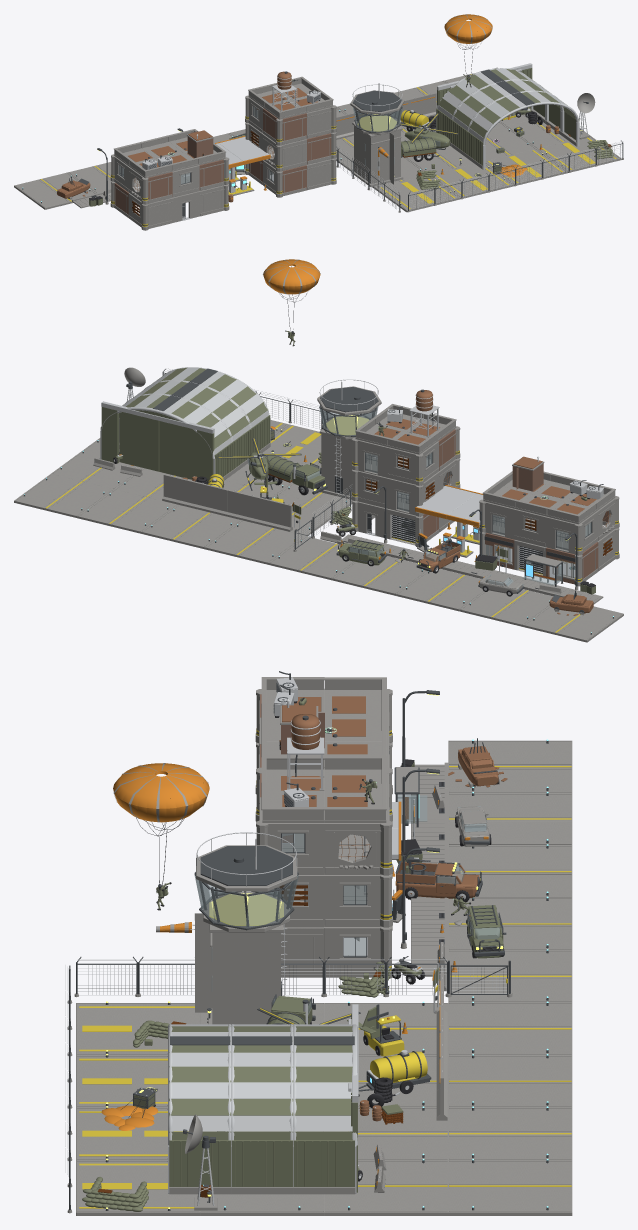
3 renders of one model, top to bottom at view 1: azimuth 30°, elevation 25°; view 2: azimuth 150°, elevation 25°; view 3: azimuth 270°, elevation 25°, orthographic. The views are drawn at different scales.
Visible parts, largest first — view 1: 134-control-tower-base/0, 018-runway-slab/0, 138-hangar-arch-bay/0, 138-hangar-arch-bay/2, 017-runway-slab/0, 137-hangar-arch-bay/2, 000-taxiway-slab/0, 019-runway-slab/0, 020-runway-slab/0, 136-hangar-arch-bay/2, 135-control-tower-cab/2, 225-operator-parachute-drop/3 (+50 smaller); view 2: 007-taxiway-slab/0, 006-taxiway-slab/0, 008-taxiway-slab/0, 005-taxiway-slab/0, 002-taxiway-slab/0, 001-taxiway-slab/0, 000-taxiway-slab/0, 003-taxiway-slab/0, 004-taxiway-slab/0, 139-hangar-end-wall-door/leaf-e/olive, 139-hangar-end-wall-door/leaf-w/olive, 139-hangar-end-wall-door/0 (+46 smaller); view 3: 134-control-tower-base/0, 008-taxiway-slab/0, 006-taxiway-slab/0, 007-taxiway-slab/0, 005-taxiway-slab/0, 137-hangar-arch-bay/2, 136-hangar-arch-bay/2, 004-taxiway-slab/0, 138-hangar-arch-bay/2, 002-taxiway-slab/0, 001-taxiway-slab/0, 012-taxiway-slab/0 (+53 smaller).
Part boxes in pixels (box(x1,y1,x2,y2)): 134-control-tower-base/0: box(351, 122, 403, 186); 018-runway-slab/0: box(434, 164, 513, 198); 138-hangar-arch-bay/0: box(468, 91, 579, 169); 138-hangar-arch-bay/2: box(467, 91, 579, 165); 017-runway-slab/0: box(375, 178, 460, 212); 137-hangar-arch-bay/2: box(451, 80, 560, 154); 000-taxiway-slab/0: box(14, 172, 95, 209); 019-runway-slab/0: box(485, 149, 567, 186); 020-runway-slab/0: box(537, 136, 621, 172); 136-hangar-arch-bay/2: box(436, 69, 544, 142); 135-control-tower-cab/2: box(352, 90, 402, 132); 225-operator-parachute-drop/3: box(444, 14, 492, 43); 007-taxiway-slab/0: box(77, 489, 177, 533); 006-taxiway-slab/0: box(141, 505, 241, 549); 008-taxiway-slab/0: box(14, 474, 113, 518); 005-taxiway-slab/0: box(205, 520, 304, 564); 002-taxiway-slab/0: box(396, 569, 483, 611); 001-taxiway-slab/0: box(460, 589, 553, 626); 000-taxiway-slab/0: box(523, 606, 623, 642); 003-taxiway-slab/0: box(332, 556, 426, 595); 004-taxiway-slab/0: box(268, 536, 354, 580); 139-hangar-end-wall-door/leaf-e/olive: box(119, 412, 159, 471); 139-hangar-end-wall-door/leaf-w/olive: box(159, 421, 196, 479); 139-hangar-end-wall-door/0: box(101, 407, 214, 481); 134-control-tower-base/0: box(194, 913, 283, 1024); 008-taxiway-slab/0: box(448, 1160, 572, 1215); 006-taxiway-slab/0: box(448, 1055, 572, 1107); 007-taxiway-slab/0: box(448, 1107, 572, 1159); 005-taxiway-slab/0: box(448, 1003, 572, 1055); 137-hangar-arch-bay/2: box(231, 1026, 292, 1186); 136-hangar-arch-bay/2: box(293, 1026, 354, 1186); 004-taxiway-slab/0: box(448, 950, 572, 1002); 138-hangar-arch-bay/2: box(169, 1026, 230, 1186); 002-taxiway-slab/0: box(448, 845, 572, 897); 001-taxiway-slab/0: box(448, 793, 572, 845); 012-taxiway-slab/0: box(324, 1160, 448, 1215).
Size of the model in its own units: 72.31 by 22.32 by 32.68.
Materials: 16 (3 with a texture image).
